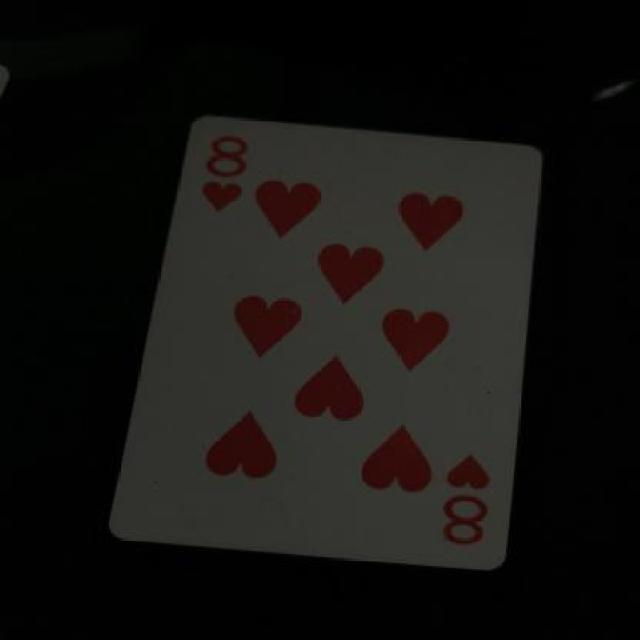8H: (422, 449, 520, 557), (188, 130, 272, 212)
